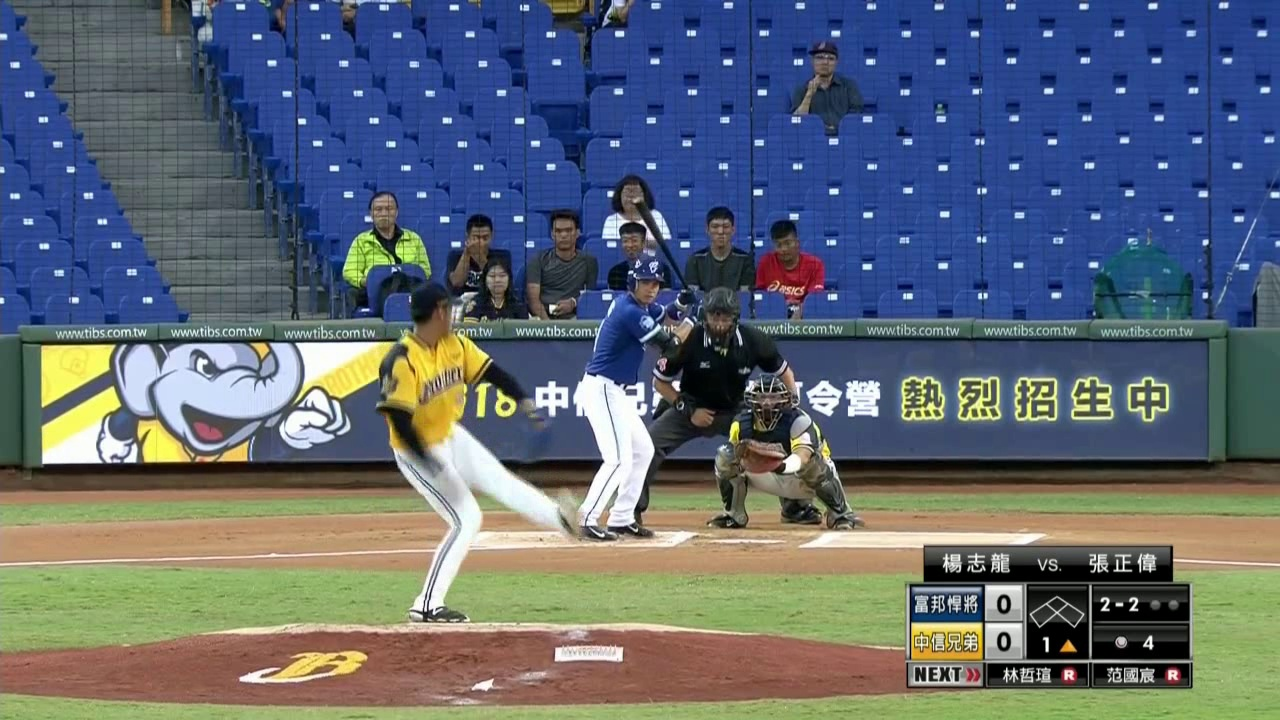base: (1029, 590, 1086, 629)
bat: (630, 193, 694, 300)
out: (1150, 597, 1180, 614)
score1: (984, 585, 1021, 620)
score2: (986, 623, 1022, 659)
session: (1038, 634, 1080, 655)
strikeball: (1093, 590, 1146, 615)
total: (1110, 630, 1160, 651)
